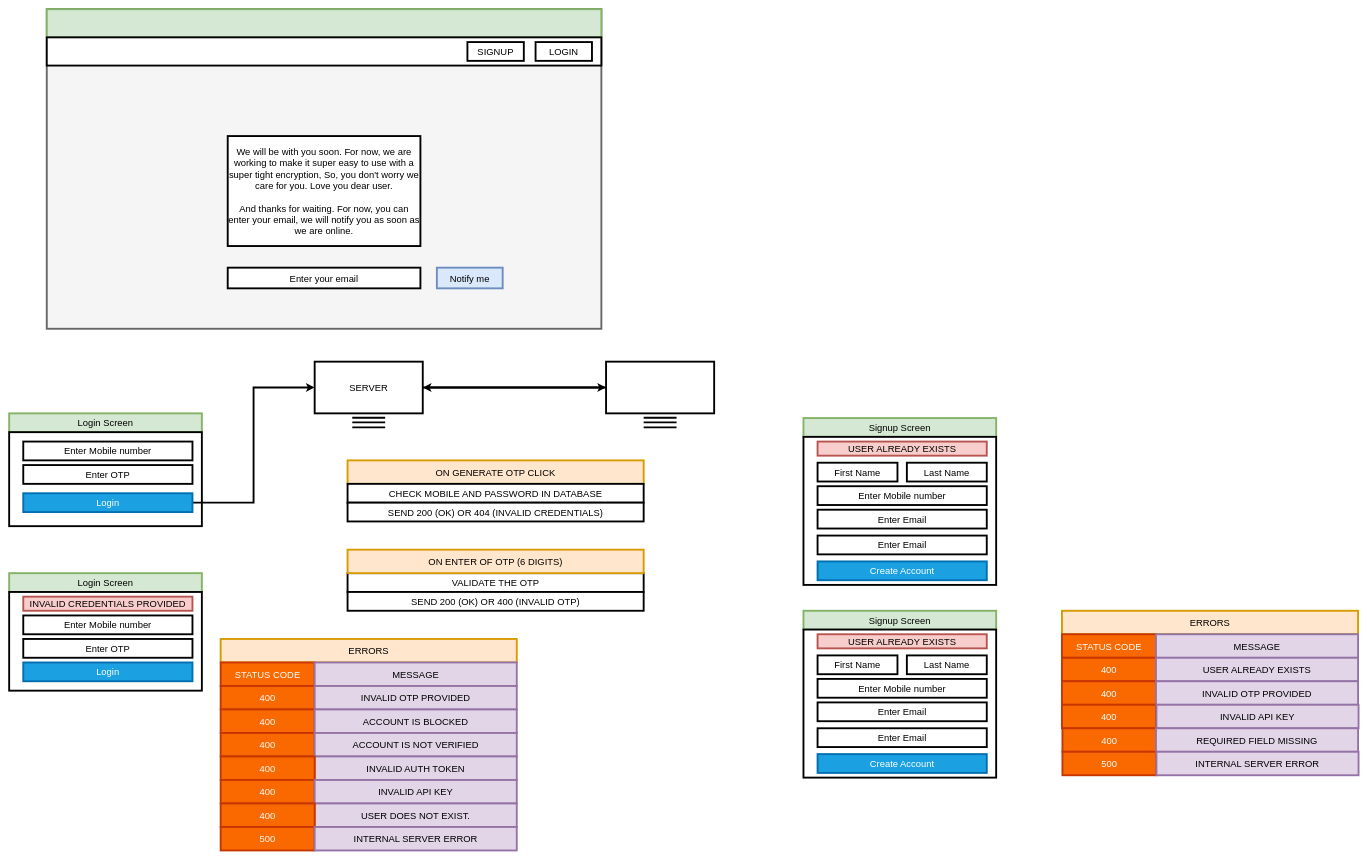
The diagram is 1367 pixels wide and 859 high, and some of its shapes have lost their labels. The centre of each missing label's shape, as x and y in pixels:
"DATABASE" belongs at point 660,387.
"LANDING PAGE" belongs at point 324,23.
